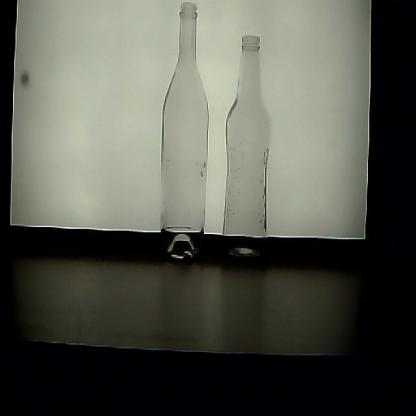Can: (157, 3, 210, 266), (224, 34, 273, 269)
